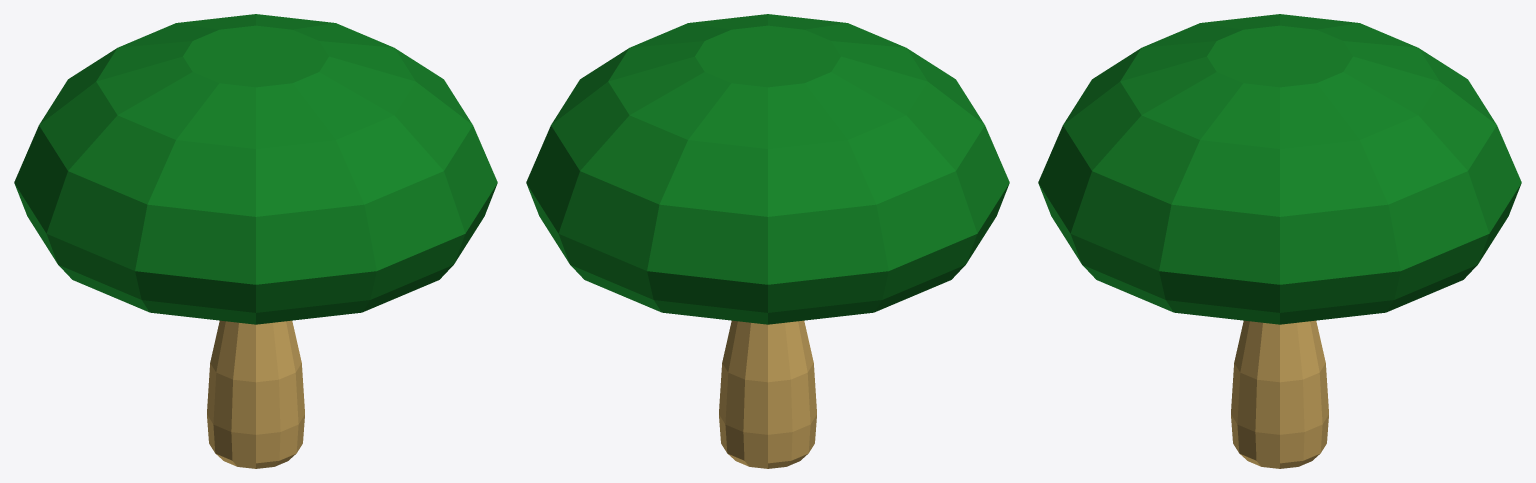
Rendered from fbx_mushroom1.fbx.
3 views of the same model, side by side, from view 1: azimuth 30°, elevation 25°; view 2: azimuth 150°, elevation 25°; view 3: azimuth 270°, elevation 25° (orthographic).
Parts seen in each view (by area): view 1: Circle; view 2: Circle; view 3: Circle.
Boxes of the visible parts, x1=… form: Circle: x1=14, y1=14, x2=497, y2=468; Circle: x1=526, y1=14, x2=1009, y2=468; Circle: x1=1038, y1=14, x2=1521, y2=468.
Size of the model in its own units: 894 by 809 by 894.
